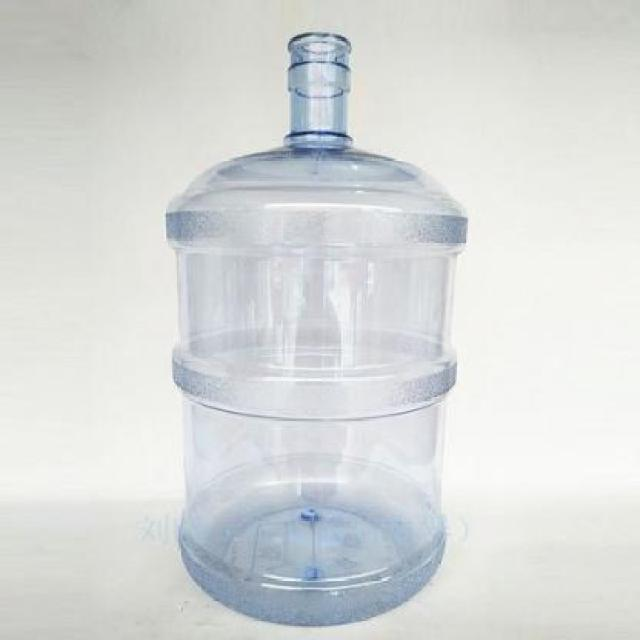coolerbottle: (161, 29, 474, 632)
